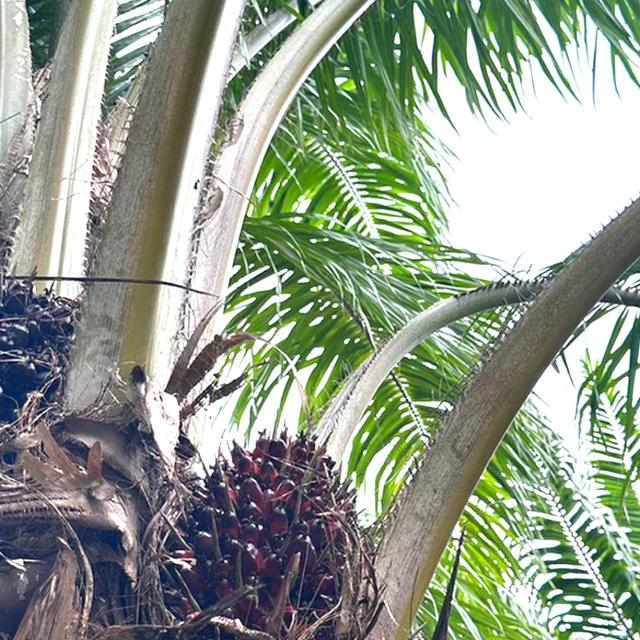ripe: (147, 408, 384, 640)
